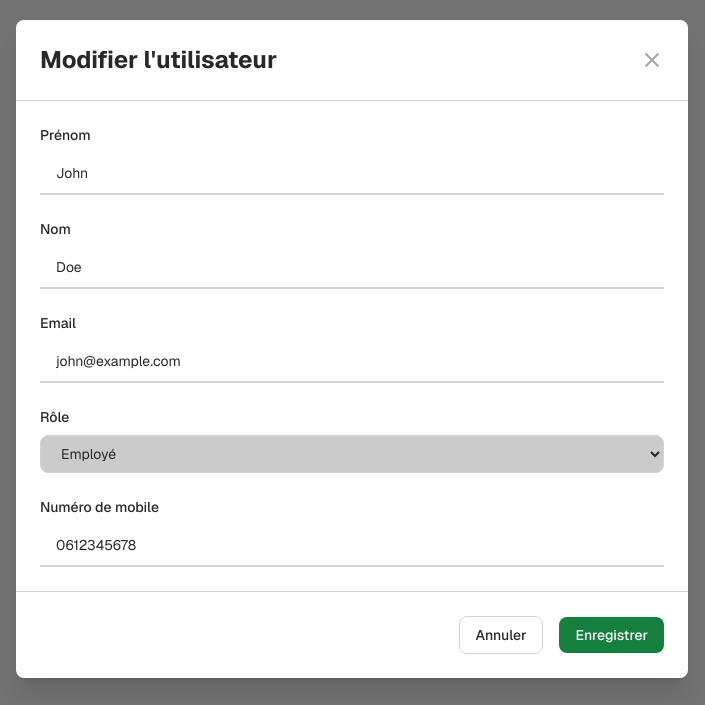
EditUserModal › Form Validation › should show error for invalid email
The width and height of the screenshot is (705, 705).
Replace the text in the field labelled "Email" with "invalid-email" at (352, 362), box [40,341,664,383]
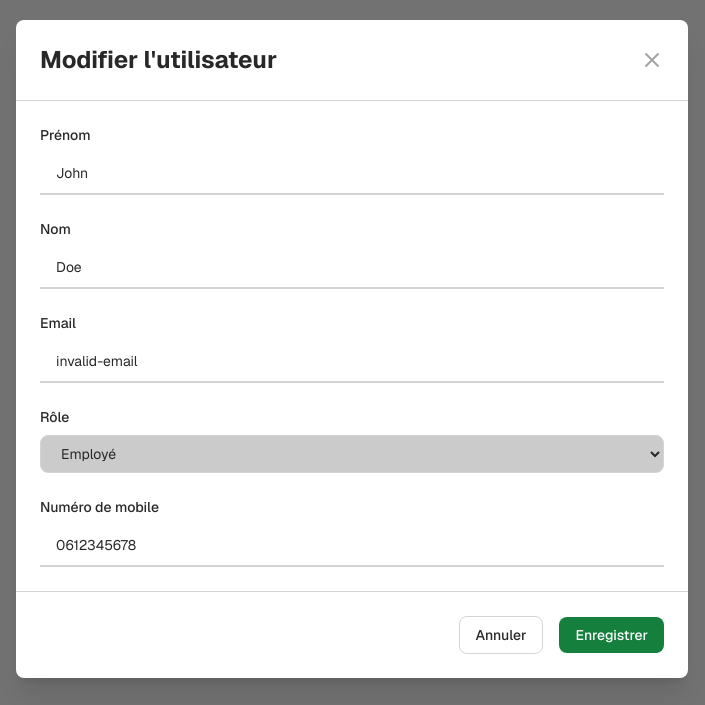
Click the button "Enregistrer" at (612, 635), box [560,617,664,653]
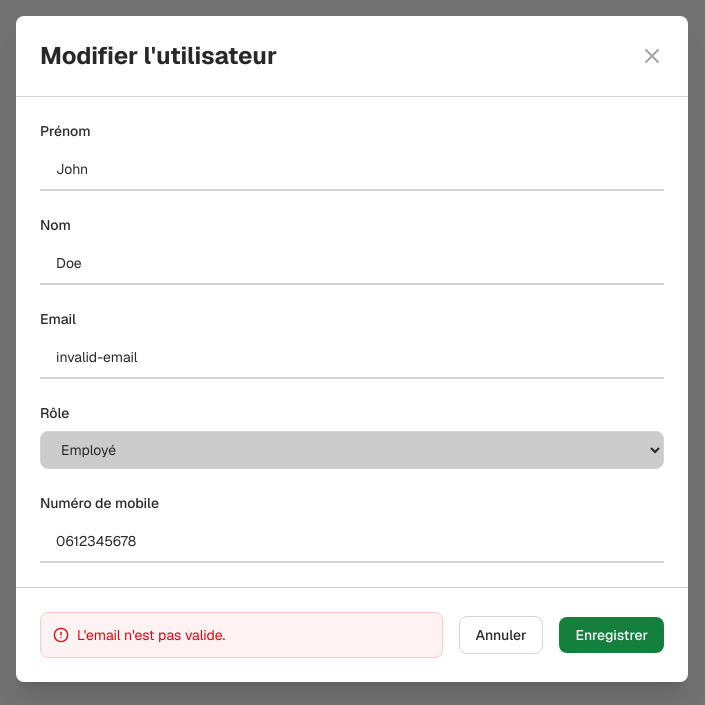
expect the text "L'email n'est pas valide." is shown: met, box [77,626,225,644]
